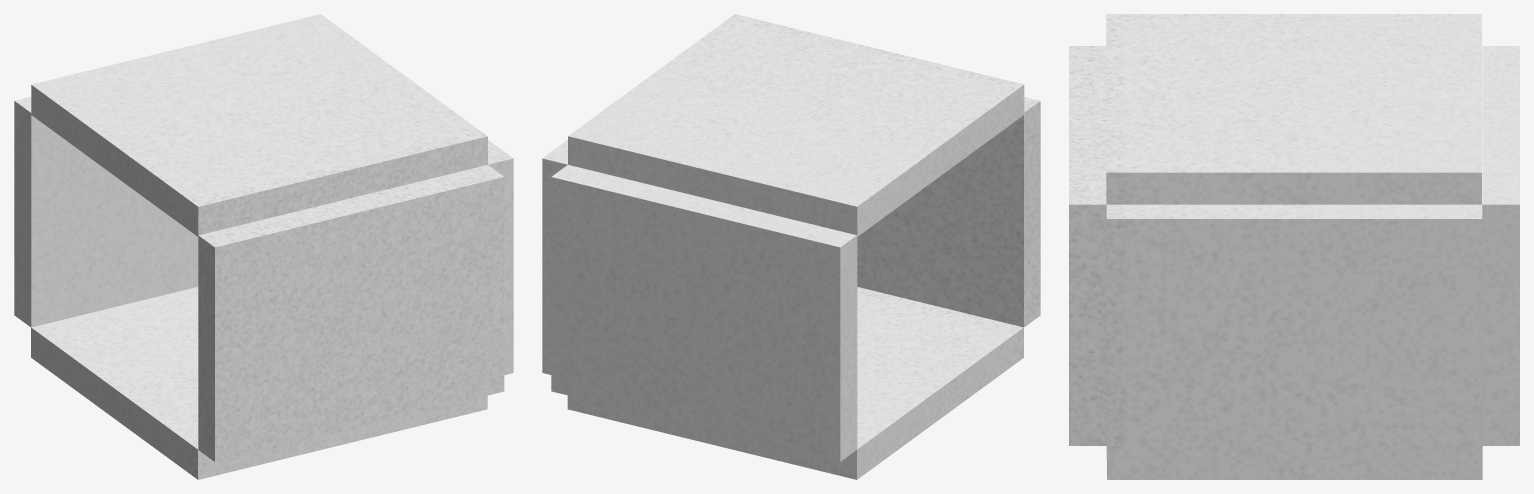
File: room.FBX
3 renders of one model, left to right at view 1: azimuth 30°, elevation 25°; view 2: azimuth 150°, elevation 25°; view 3: azimuth 270°, elevation 25°, orthographic. The views are drawn at different scales.
Visible parts, largest first — view 1: Box001; view 2: Box001; view 3: Box001.
Boxes of the visible parts, left/top/right/bottom form: Box001: left=14, top=14, right=513, bottom=479; Box001: left=542, top=14, right=1040, bottom=479; Box001: left=1069, top=14, right=1519, bottom=479.
Size of the model in its own units: 109 by 90.18 by 120.
Materials: 1 (1 with a texture image).
